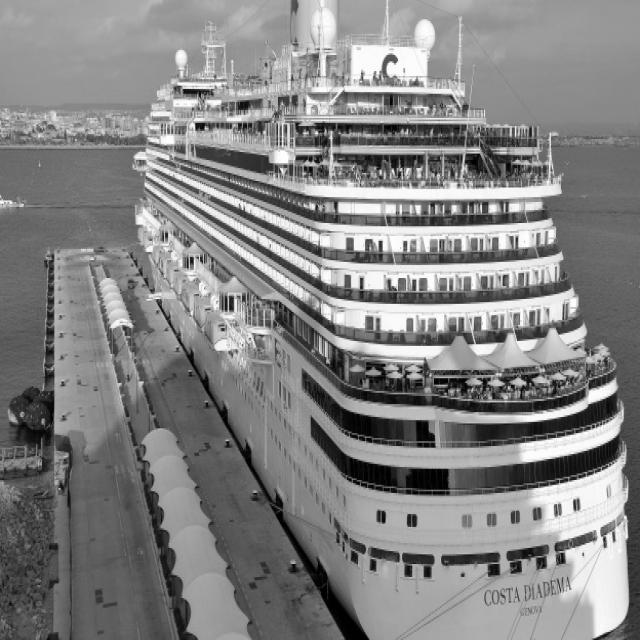cruises: (128, 1, 639, 640)
